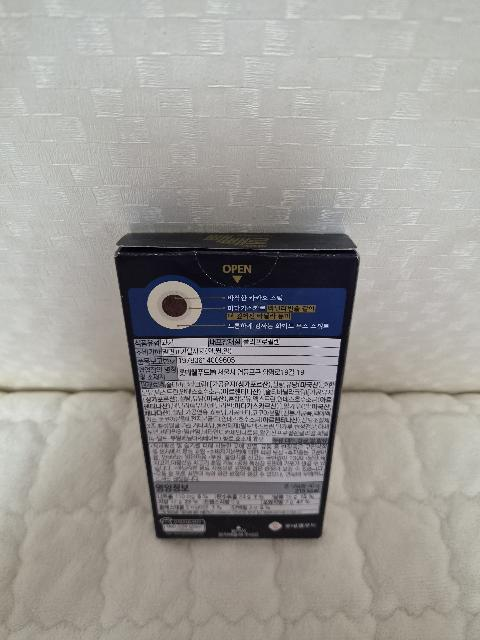pepero: (114, 232, 360, 540)
